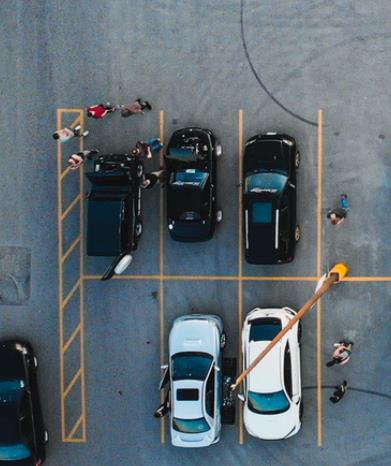car: (155, 312, 224, 448), (236, 306, 304, 442), (238, 130, 304, 265), (83, 152, 144, 280), (159, 126, 224, 244)
